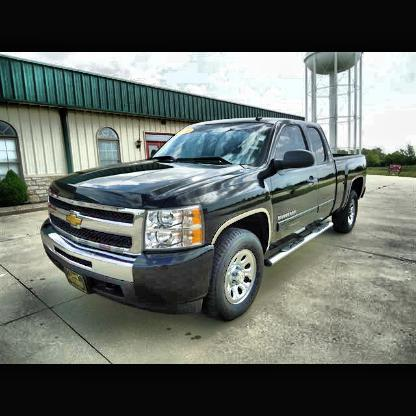Chevrolet Silverado 1500 Extended Cab 2012: (41, 119, 367, 315)
